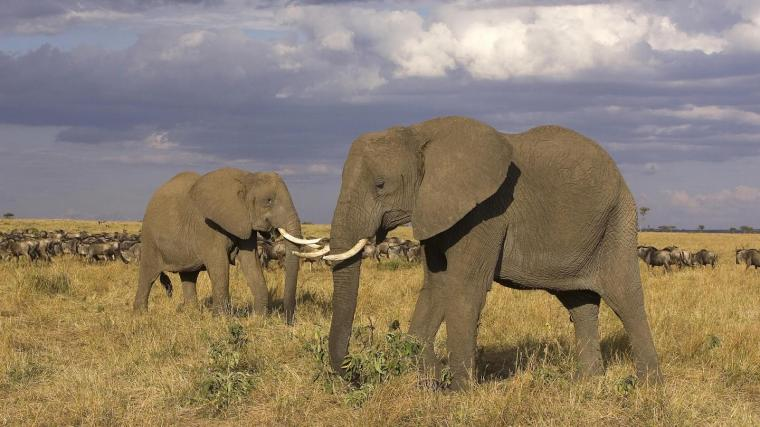africanelephant: (297, 115, 474, 337)
